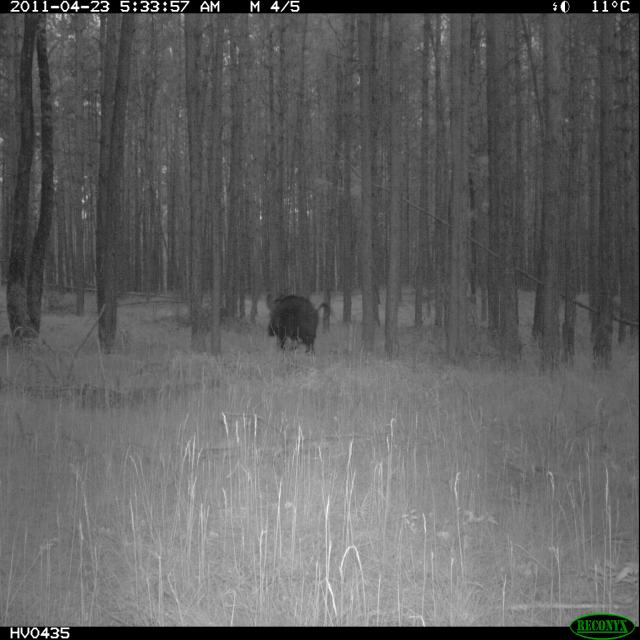boar: (251, 273, 337, 377)
